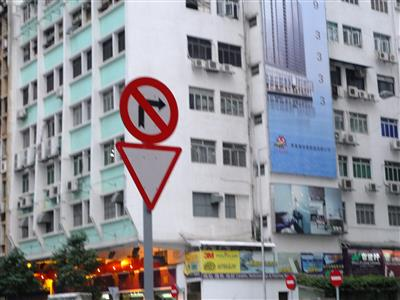noEntry: (328, 269, 344, 286), (283, 272, 298, 289), (168, 282, 180, 298)
noRightTurn: (118, 75, 179, 144)
yield: (112, 138, 183, 211)
